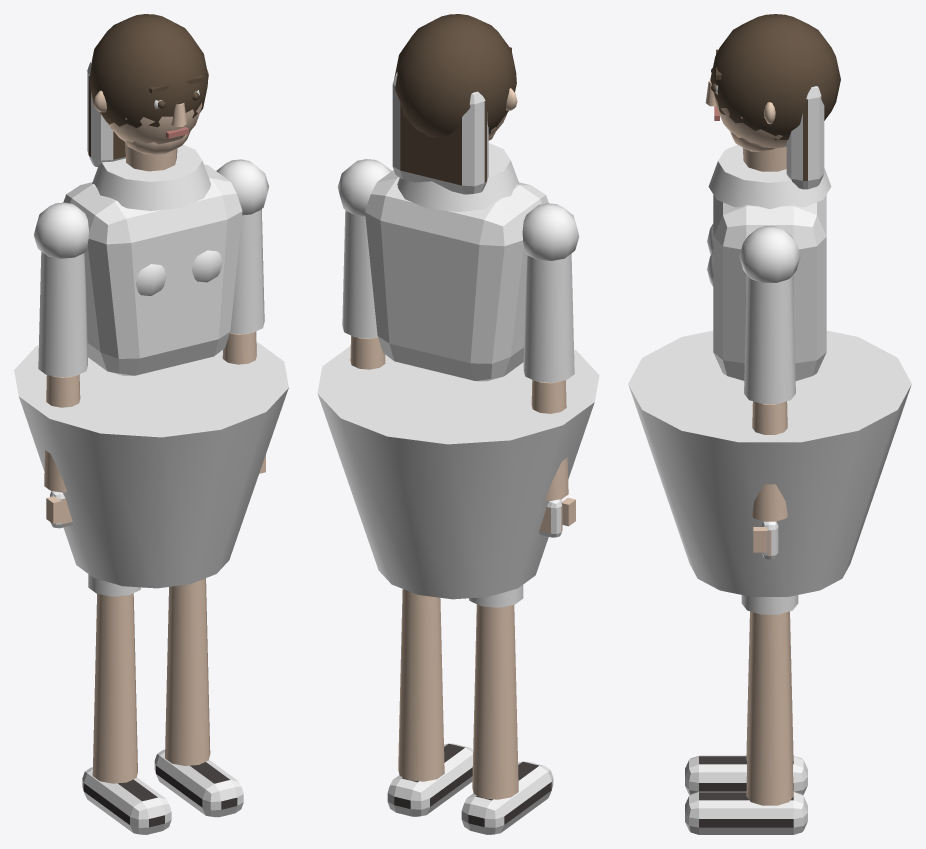
The model's file is person_f.gltf.
3 views of the same model, side by side, from view 1: azimuth 30°, elevation 25°; view 2: azimuth 150°, elevation 25°; view 3: azimuth 270°, elevation 25° (orthographic). The views are drawn at different scales.
Visible parts, largest first — view 1: person_f, LegR, LegL, ArmR, ArmL; view 2: person_f, LegR, ArmR, LegL, ArmL; view 3: person_f, LegL, ArmL, LegR.
Part boxes in pixels (x1,y1,x2,y2): person_f: (14, 14, 288, 588); LegR: (82, 574, 171, 834); LegL: (154, 578, 243, 817); ArmR: (34, 202, 88, 528); ArmL: (216, 159, 268, 473); person_f: (317, 14, 599, 599); LegR: (461, 585, 553, 834); ArmR: (522, 203, 579, 537); LegL: (387, 589, 473, 816); ArmL: (337, 159, 391, 369); person_f: (628, 14, 911, 596); LegL: (685, 595, 807, 834); ArmL: (739, 226, 800, 559); LegR: (685, 611, 807, 795).
Bounding box in the file's own units: 0.117 × 0.3702 × 0.12.
